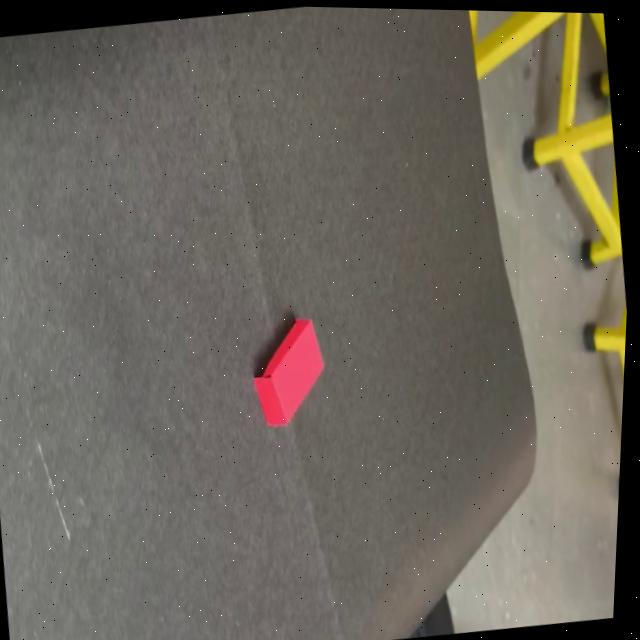red block: (243, 311, 333, 429)
